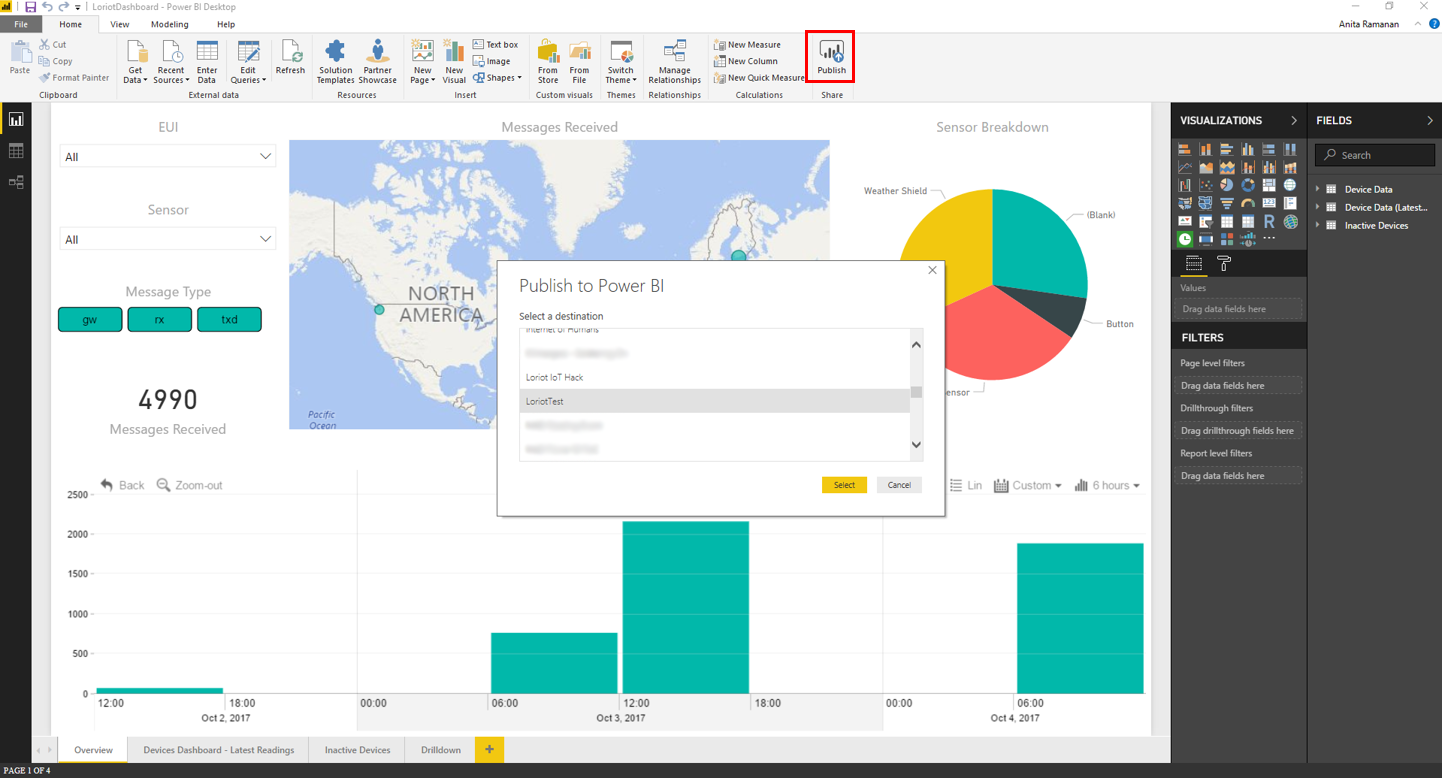

The dashboard page shown, as its layout file describes it:
{"tool":"powerbi","page":{"name":"Overview","canvas":[1280,720],"ordinal":0},"visuals":[{"type":"pieChart","fields":{"Category":["Loriot.Sensor Name"],"Y":["CountNonNull(Loriot.EUI)"]},"box":[912,0,368,368],"z":2},{"type":"slicer","fields":{"Values":["Loriot.EUI"]},"box":[0,0,272,80],"z":4},{"type":"slicer","fields":{"Values":["Loriot.Sensor Name"]},"box":[0,96,272,80],"z":4},{"type":"ChicletSlicer1448559807354","fields":{"Category":["Loriot.Message Type"]},"box":[0,192,272,80],"z":5},{"type":"card","fields":{"Values":["Loriot.Messages Received"]},"box":[0,288,272,96],"z":5},{"type":"ZoomChartsTimeChartFree33C9F325D337408C98D4E1D4E1EAD705","fields":{"Category":["Loriot.Timestamp (Gateway)"],"Values":["CountNonNull(Loriot.EUI)"]},"box":[0,384,1280,336],"z":5},{"type":"map","fields":{"Y":["Loriot.Device Latitude"],"X":["Loriot.Device Longitude"],"Size":["Loriot.Messages Received"]},"box":[272,0,640,368],"z":6}]}

Visuals, with their boxes on the page's 1280x720 design canvas (x1, y1, x2, y2). These are canvas units, not pixel positions in the 1442x778 screenshot, which may show the page scaled, cropped or inside an application window:
pieChart - Loriot.Sensor Name x CountNonNull(Loriot.EUI): [left=912, top=0, right=1280, bottom=368]
slicer - Loriot.EUI: [left=0, top=0, right=272, bottom=80]
slicer - Loriot.Sensor Name: [left=0, top=96, right=272, bottom=176]
ChicletSlicer1448559807354 - Loriot.Message Type: [left=0, top=192, right=272, bottom=272]
card - Loriot.Messages Received: [left=0, top=288, right=272, bottom=384]
ZoomChartsTimeChartFree33C9F325D337408C98D4E1D4E1EAD705 - Loriot.Timestamp (Gateway) x CountNonNull(Loriot.EUI): [left=0, top=384, right=1280, bottom=720]
map - Loriot.Device Latitude x Loriot.Device Longitude: [left=272, top=0, right=912, bottom=368]
